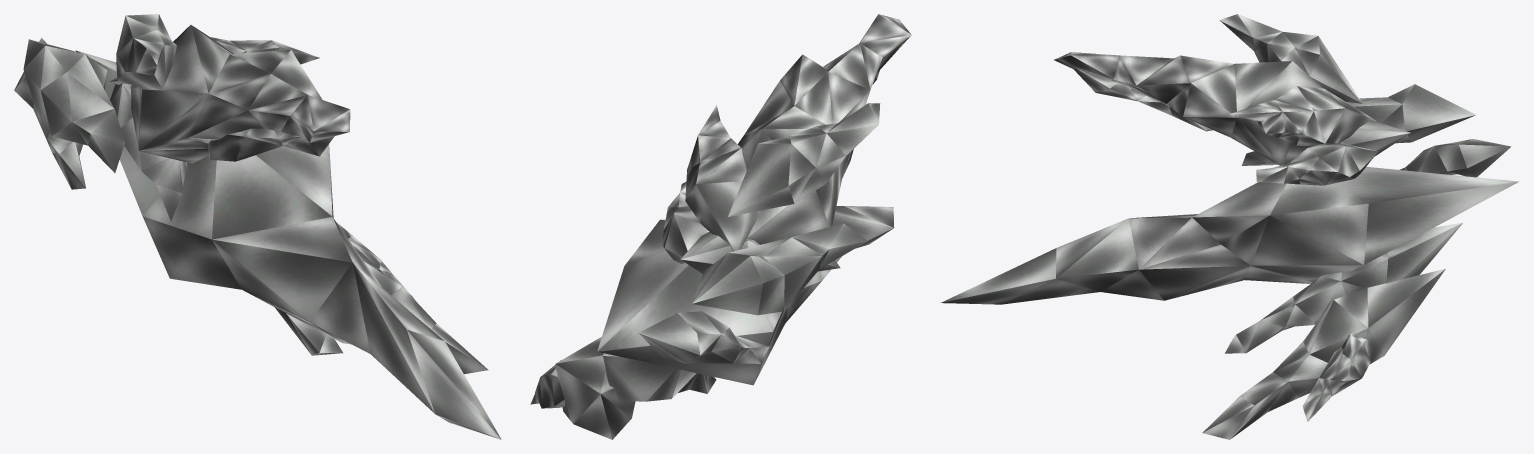
Rendered from juqing_yewai_573_shuijingsuipian01.obj.
The picture shows the model from 3 angles, left to right: view 1: azimuth 30°, elevation 25°; view 2: azimuth 150°, elevation 25°; view 3: azimuth 270°, elevation 25°; orthographic projection. The views are drawn at different scales.
Parts seen in each view (by area): view 1: shuijin; view 2: shuijin; view 3: shuijin.
Boxes of the visible parts, x1=… form: shuijin: x1=14, y1=14, x2=501, y2=439; shuijin: x1=530, y1=14, x2=911, y2=439; shuijin: x1=941, y1=14, x2=1518, y2=439.
Size of the model in its own units: 363 by 409 by 699.
2 materials, 2 textured.
